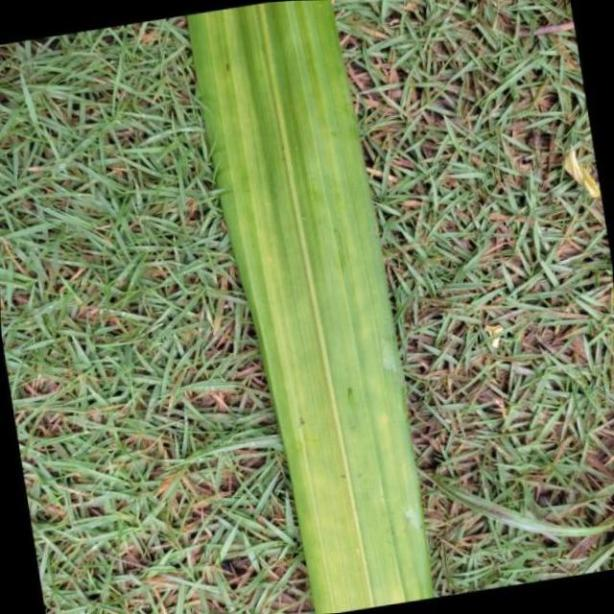nitrogen: (189, 0, 438, 614)
